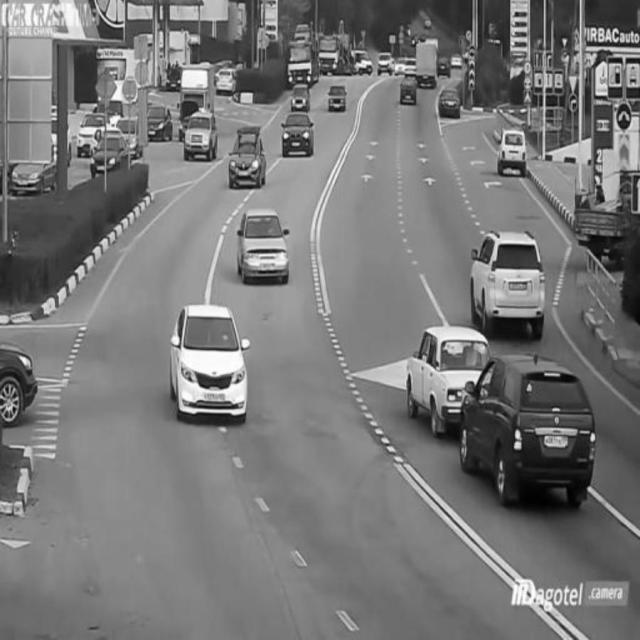vehicle: (468, 358, 599, 515), (169, 307, 249, 425), (471, 230, 549, 343), (407, 323, 485, 431), (235, 211, 293, 281), (1, 345, 43, 425), (227, 129, 269, 190), (88, 125, 132, 176), (182, 104, 217, 165), (280, 105, 314, 159), (284, 38, 320, 88), (411, 34, 441, 91), (496, 126, 528, 174), (145, 102, 172, 148), (435, 83, 462, 120), (324, 82, 350, 114), (290, 80, 315, 112), (396, 76, 421, 106), (374, 48, 394, 76)
